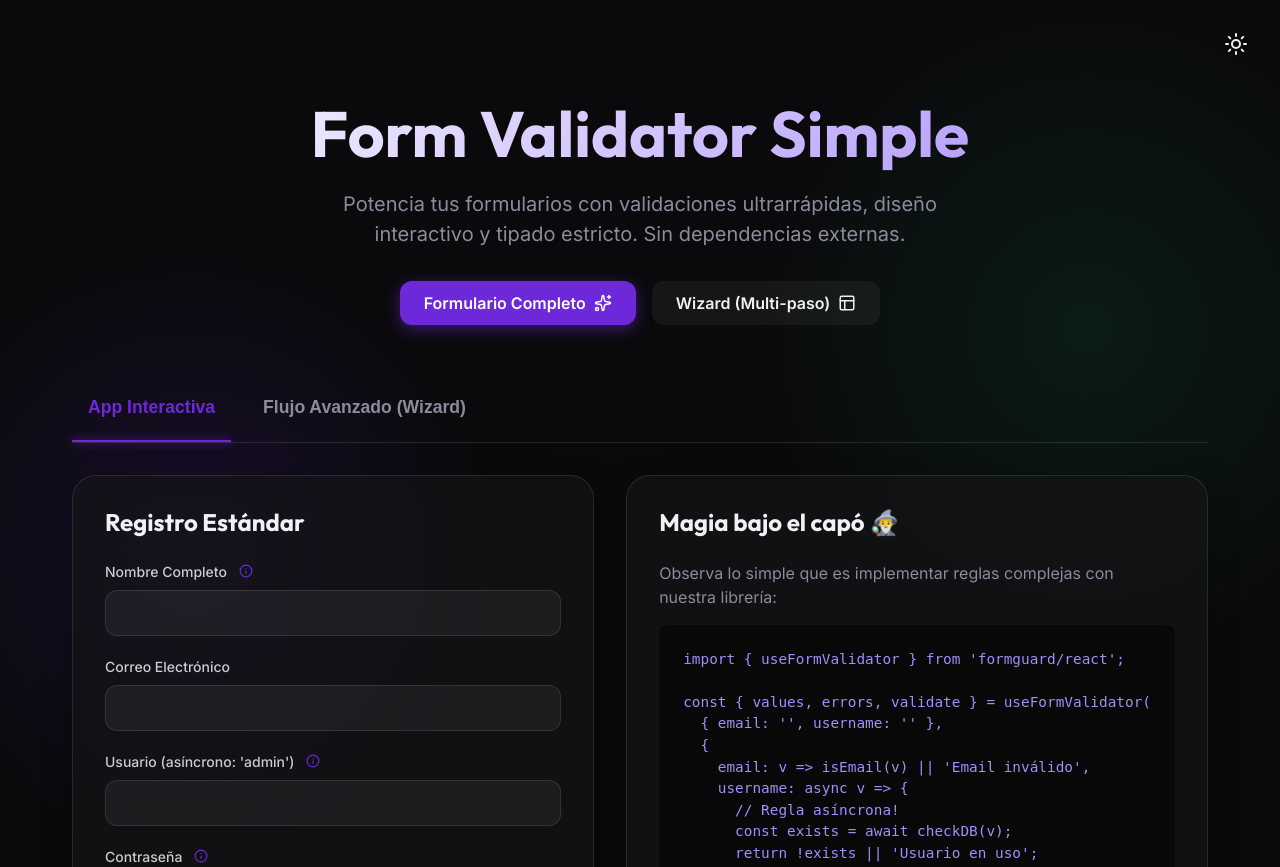
Test: App Component › switches to wizard tab and renders correctly
// Find Wizard tab
Click the button "Flujo Avanzado (Wizard)": (364, 407) [247,389,482,426]
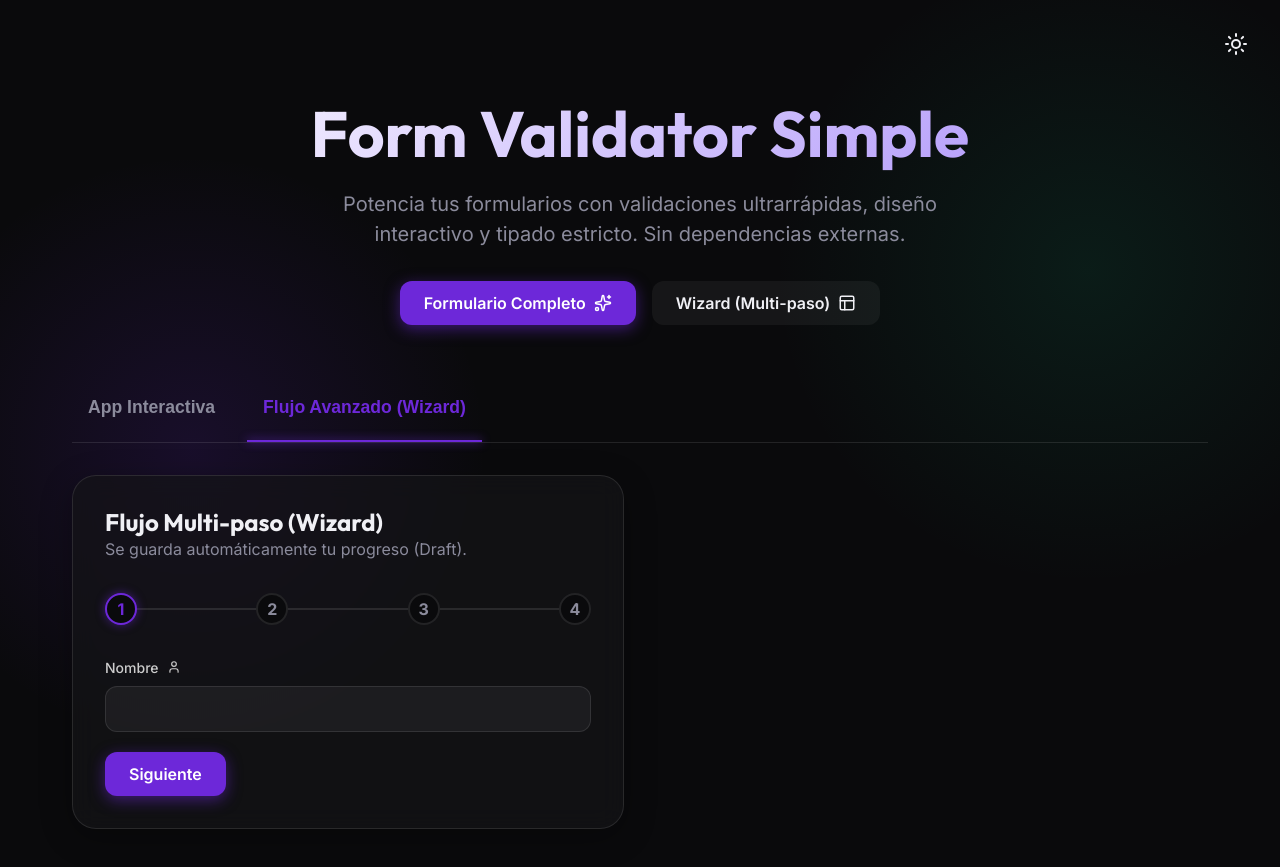
Check: the heading "Flujo Multi-paso (Wizard)" is shown, box [105,507,383,537]
